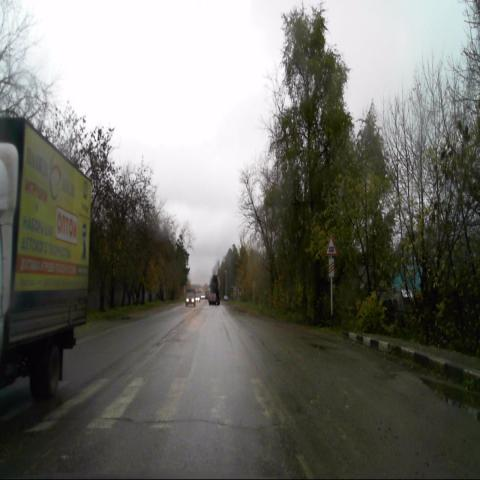1_1: (324, 234, 338, 255)
